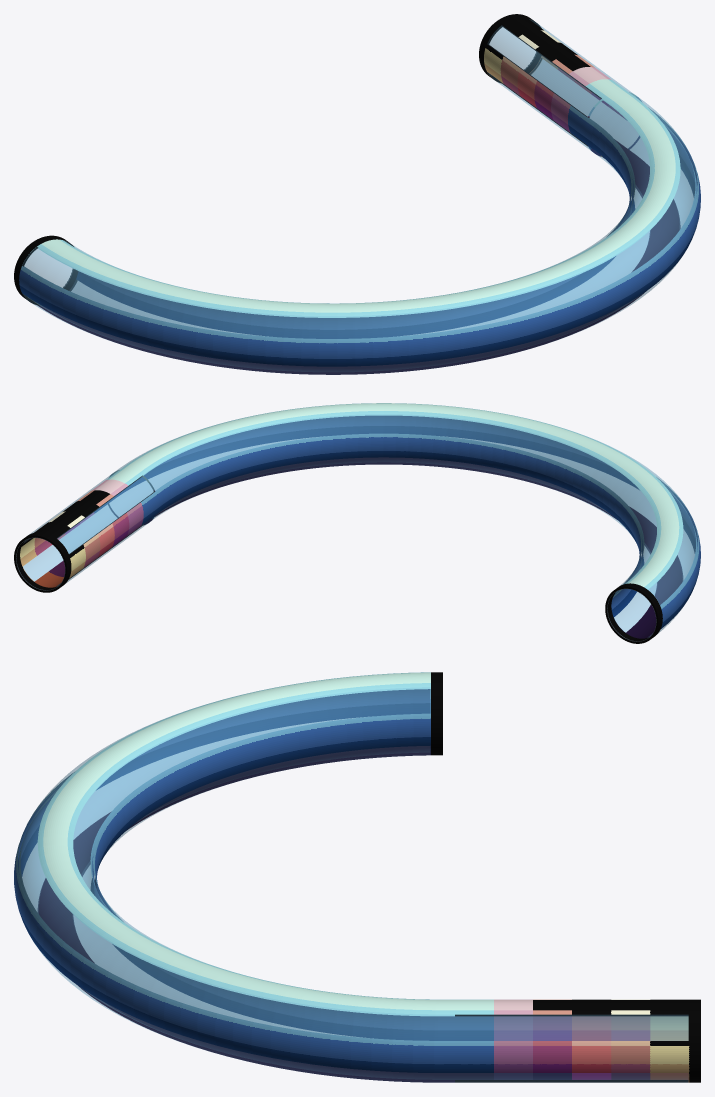
Rendered from LD50-Pipe-R-180-01.glb.
The picture shows the model from 3 angles, top to bottom: view 1: azimuth 30°, elevation 25°; view 2: azimuth 150°, elevation 25°; view 3: azimuth 270°, elevation 25°; orthographic projection. The views are drawn at different scales.
Parts seen in each view (by area): view 1: Pipe-R-180-01; view 2: Pipe-R-180-01; view 3: Pipe-R-180-01.
Boxes of the visible parts, left/top/right/bottom form: Pipe-R-180-01: left=14, top=14, right=700, bottom=374; Pipe-R-180-01: left=14, top=403, right=700, bottom=643; Pipe-R-180-01: left=14, top=672, right=700, bottom=1082.
Bounding box in the file's own units: 332 × 32.2 × 266.
Materials: 2 (2 with a texture image).
